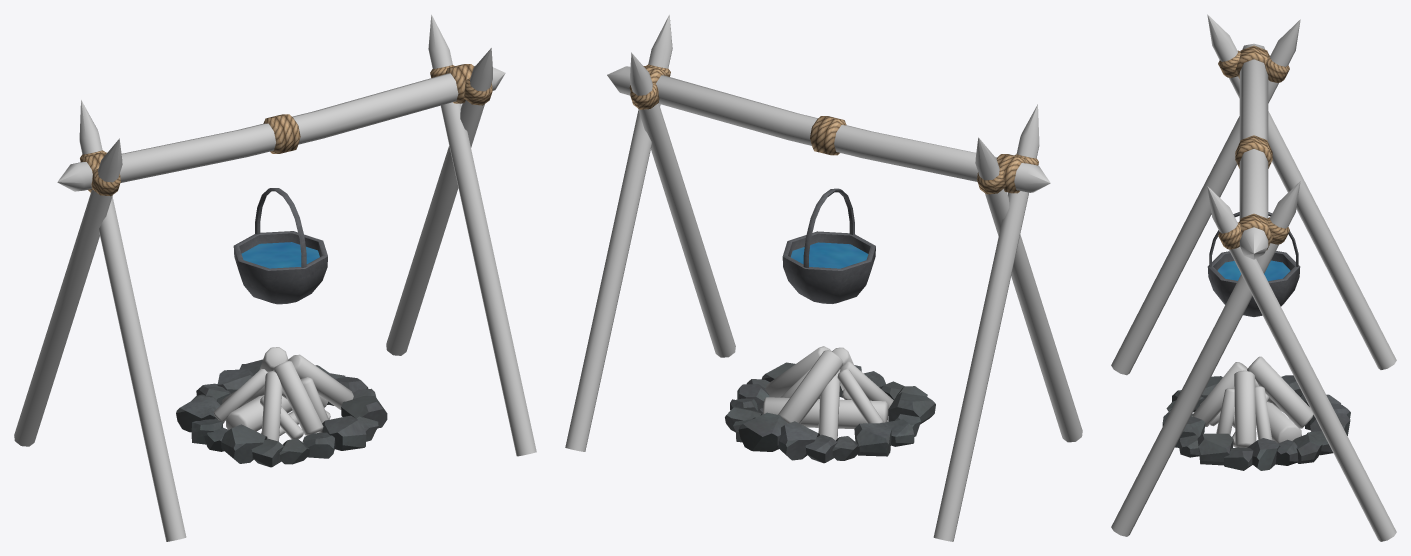
Rendered from campfire.fbx.
3 views of the same model, side by side, from view 1: azimuth 30°, elevation 25°; view 2: azimuth 150°, elevation 25°; view 3: azimuth 270°, elevation 25° (orthographic). The views are drawn at different scales.
Parts seen in each view (by area): view 1: poles, LOD_012.6, pot, ties, water; view 2: poles, LOD_012.6, pot, ties, water; view 3: poles, LOD_012.6, ties, pot, water.
Boxes of the visible parts, <box> form: poles: <box>14,14,536,541</box>; LOD_012.6: <box>176,347,387,467</box>; pot: <box>233,188,327,304</box>; ties: <box>80,64,492,196</box>; water: <box>241,242,319,268</box>; poles: <box>565,14,1082,541</box>; LOD_012.6: <box>725,346,935,463</box>; pot: <box>782,188,875,303</box>; ties: <box>629,64,1038,194</box>; water: <box>791,242,868,268</box>; poles: <box>1111,14,1396,541</box>; LOD_012.6: <box>1162,356,1350,470</box>; ties: <box>1218,45,1289,250</box>; pot: <box>1207,212,1300,316</box>; water: <box>1217,260,1290,281</box>.
Size of what is drawn, in the model's own units: 183 by 250 by 314.
